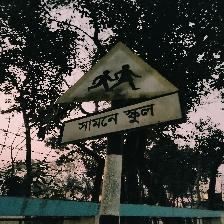School-in-front: (53, 41, 185, 145)
